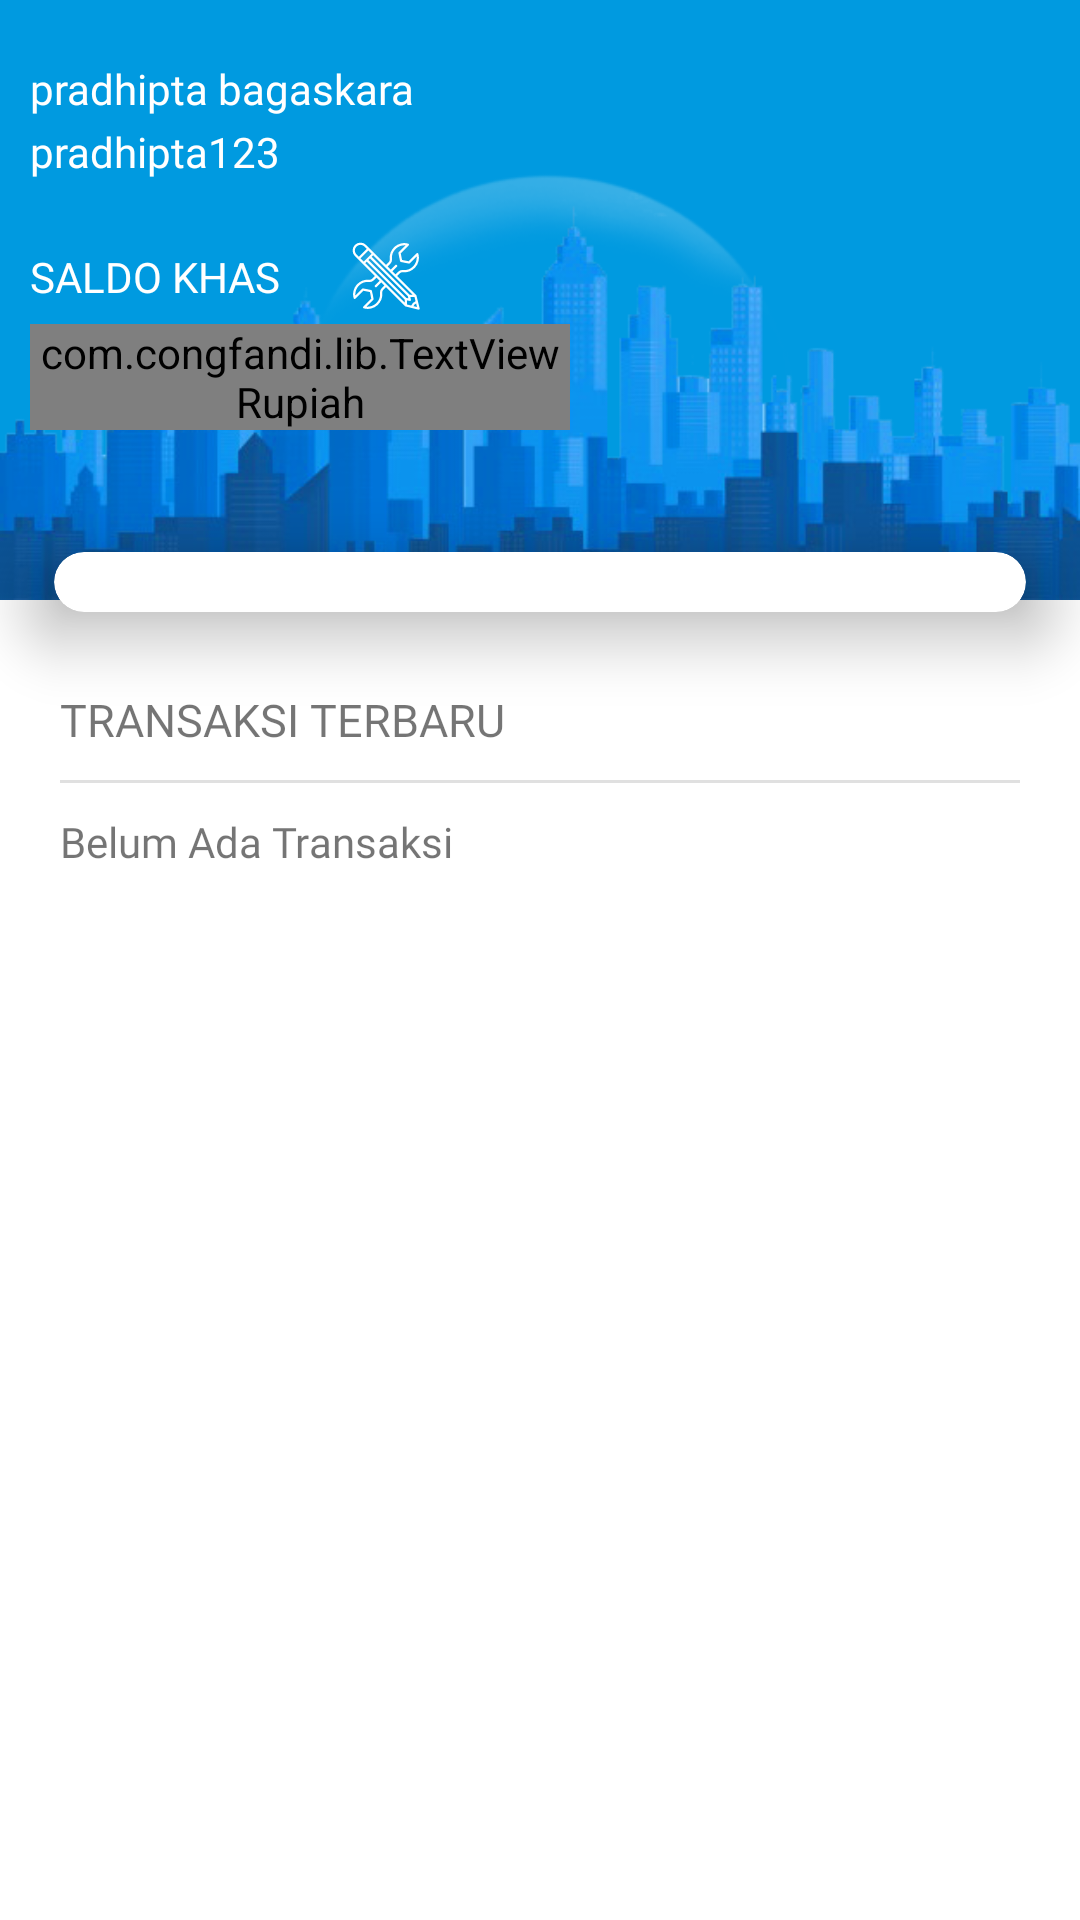

Where icons sit on this 1080 x 1920 app screen, as (x1, y1, x2, y2):
tools edit: (352, 240, 424, 310)
